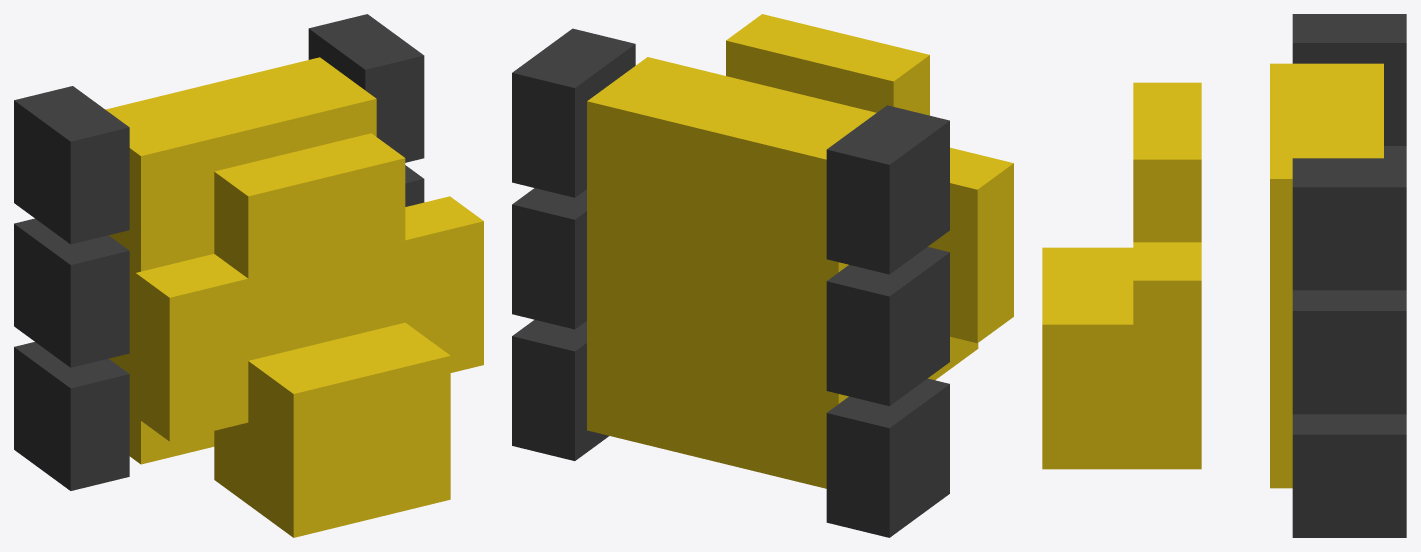
The model's file is small cogs.obj.
3 views of the same model, side by side, from view 1: azimuth 30°, elevation 25°; view 2: azimuth 150°, elevation 25°; view 3: azimuth 270°, elevation 25° (orthographic). The views are drawn at different scales.
Size of the model in its own units: 18 by 17 by 16.
1 material, 1 textured.
